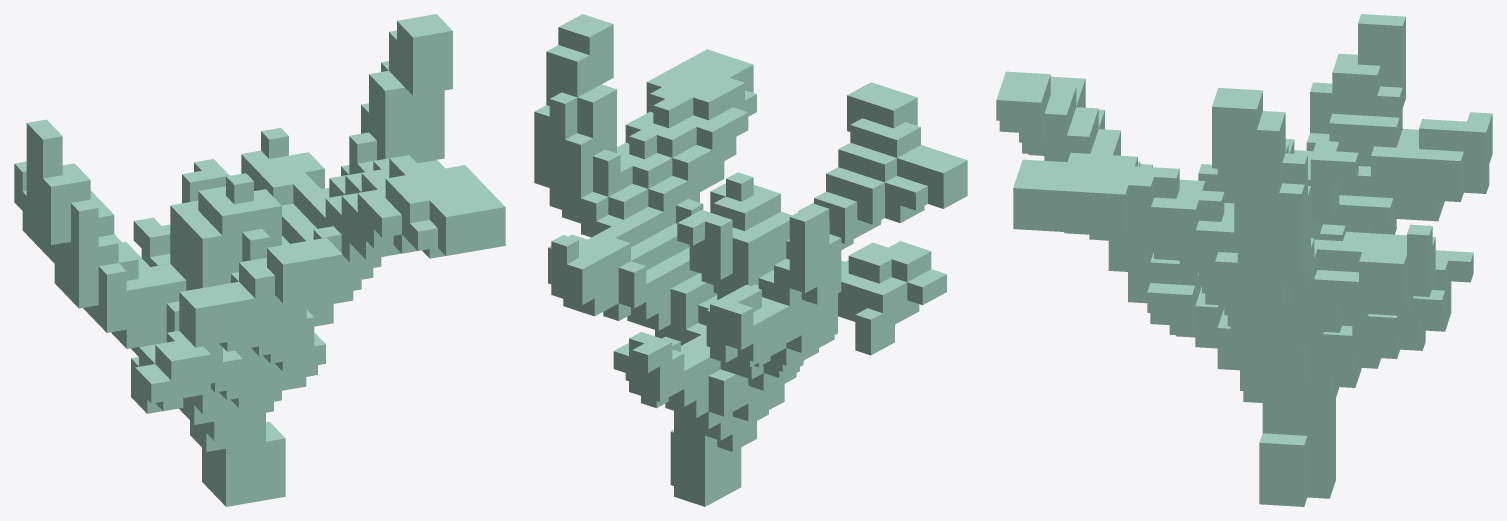
Rendered from MediumCoral3.fbx.
3 views of the same model, side by side, from view 1: azimuth 30°, elevation 25°; view 2: azimuth 150°, elevation 25°; view 3: azimuth 270°, elevation 25° (orthographic). The views are drawn at different scales.
Visible parts, largest first — view 1: Cube.112; view 2: Cube.112; view 3: Cube.112.
Part boxes in pixels (x1,y1,x2,y2): Cube.112: (14, 14, 505, 506); Cube.112: (534, 14, 967, 506); Cube.112: (996, 14, 1492, 506).
Bounding box in the file's own units: 68.97 × 82 × 78.08.
